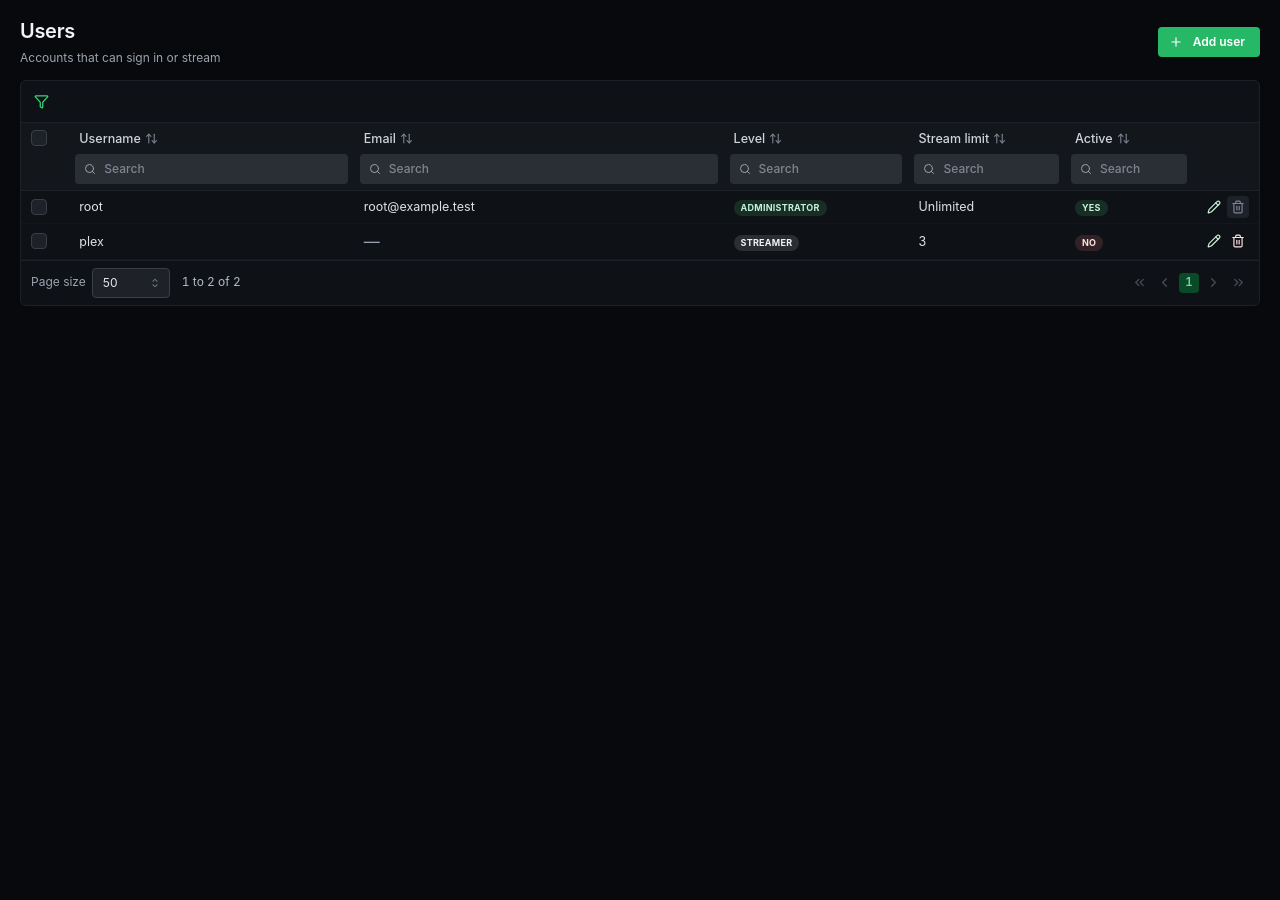
Scenario: Users page › refuses to create a user with no password
The image size is (1280, 900).
Expected: the text "root" is shown, [69, 191, 354, 224]
Click the button "Add user" at (1209, 42), box [1158, 27, 1260, 57]
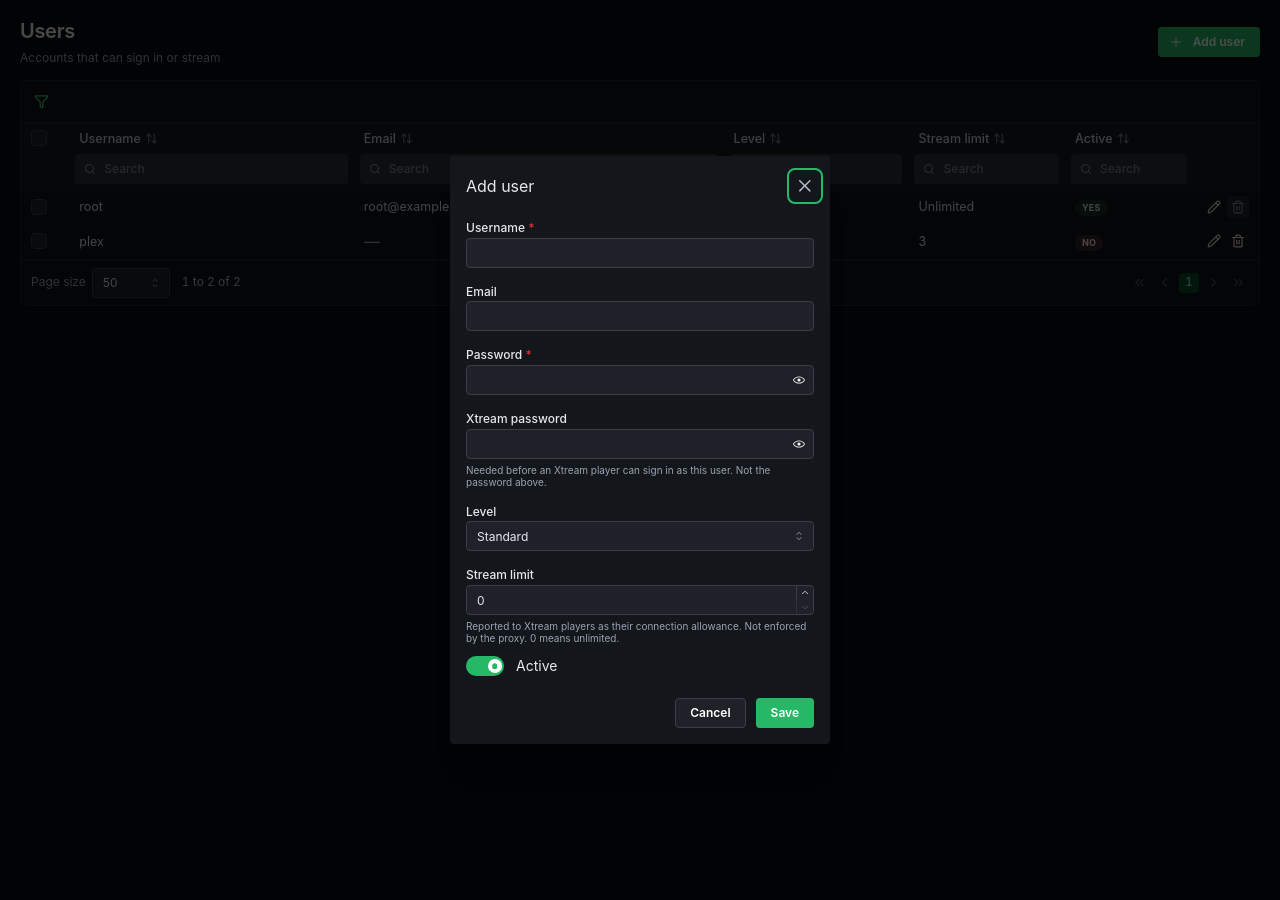
Type "newbie" into the field labelled "Username *" at (640, 253), box [466, 238, 814, 268]
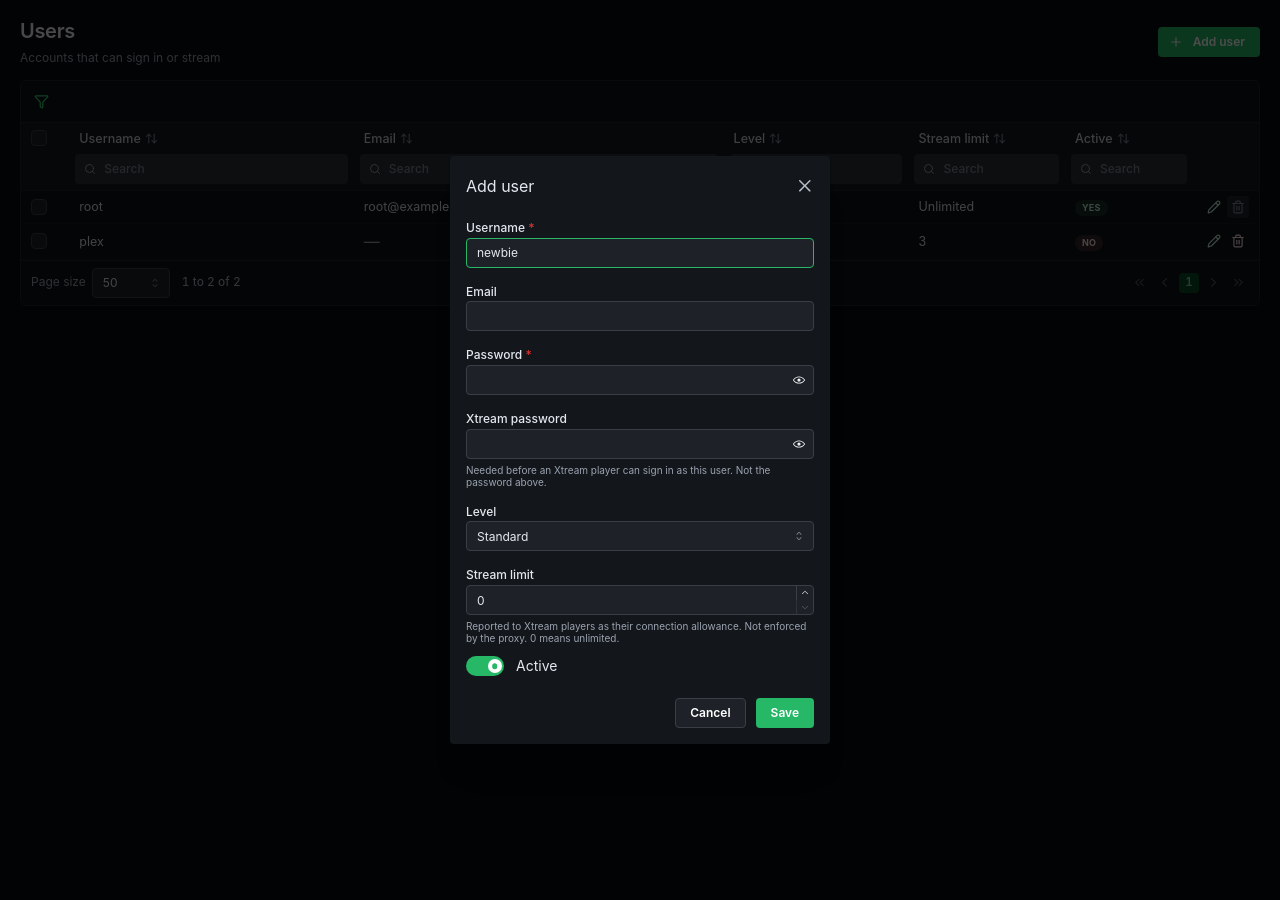
Click the button "Save" at (785, 713), box [756, 698, 814, 728]
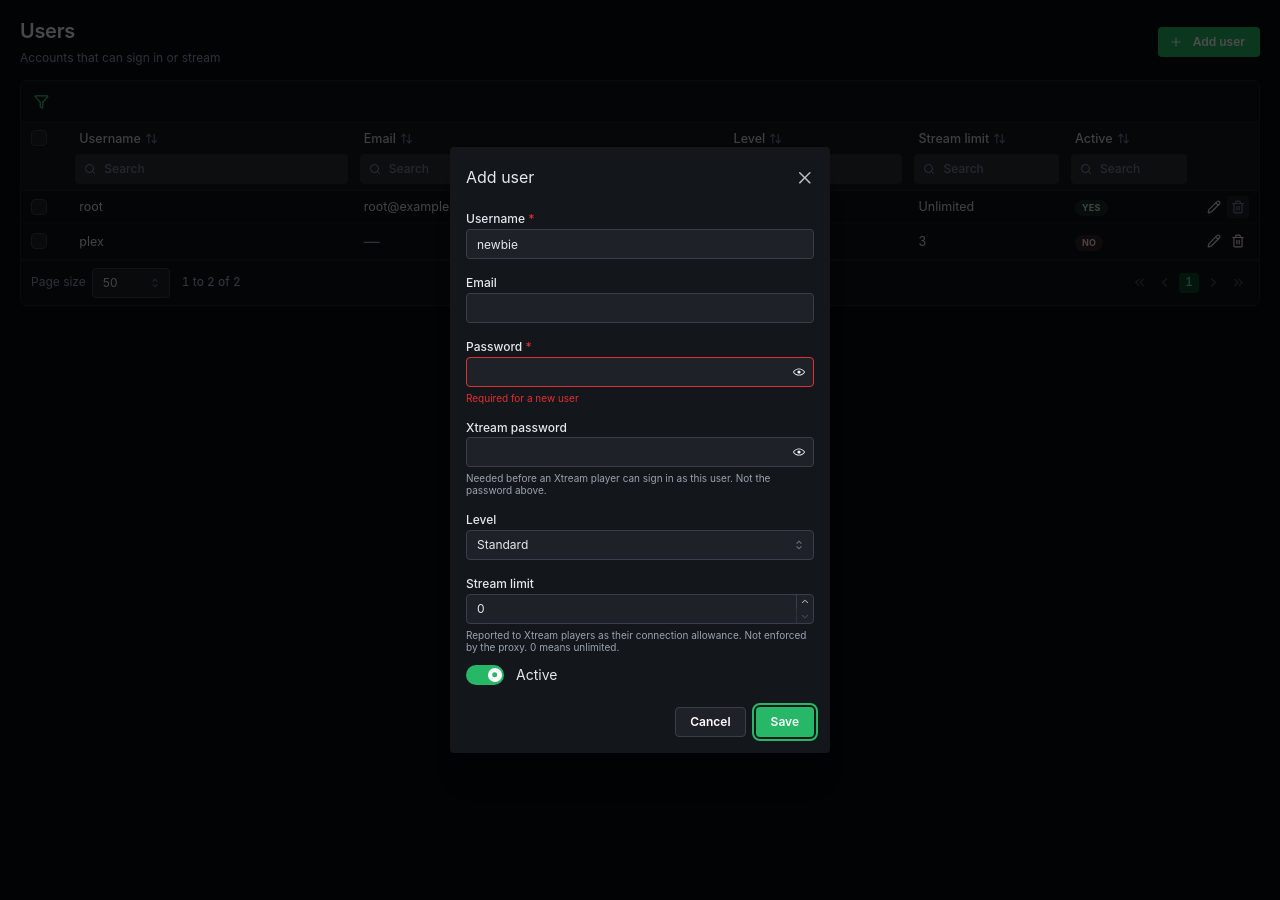
Expected: the text "Required for a new user" is shown, [466, 392, 579, 404]
